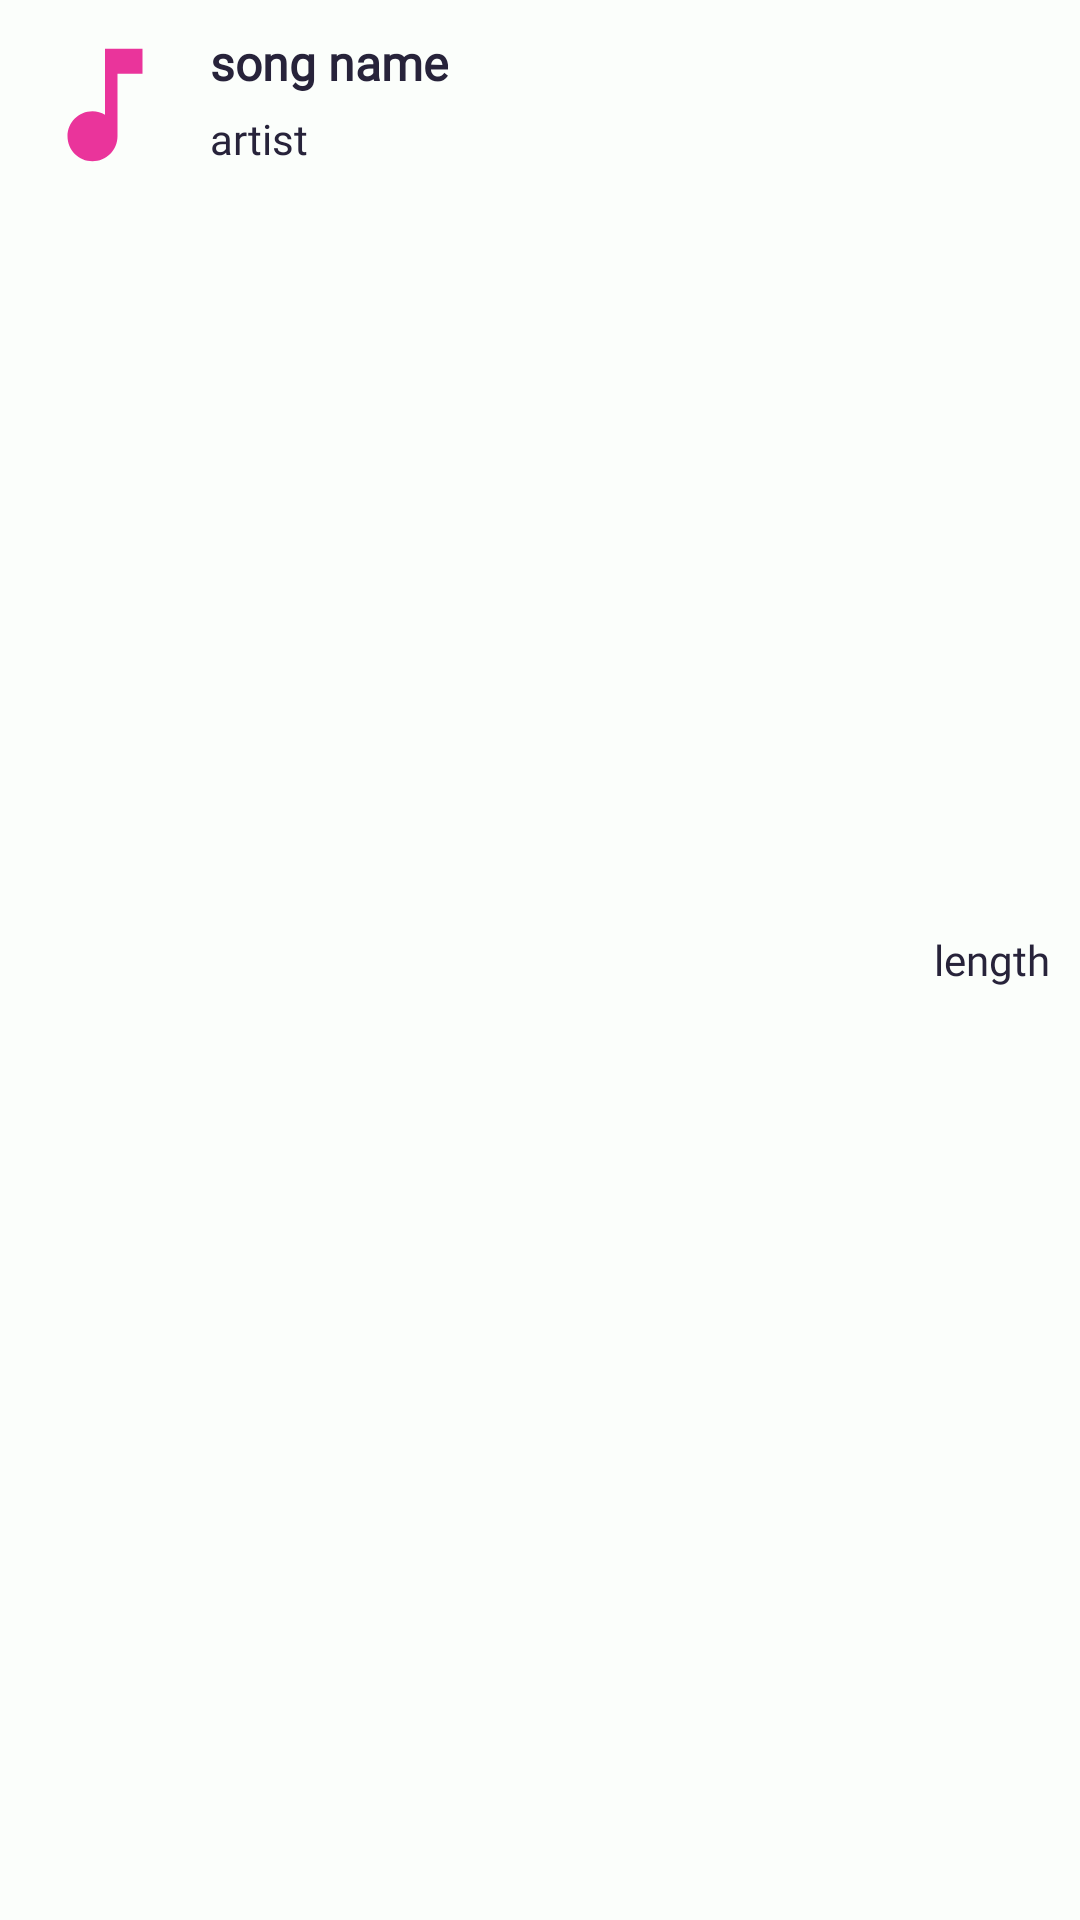

Screen size 1080w x 1920h. Icon name, then its box in pixels as (x1, y1, x2, y2):
music note: (67, 48, 143, 162)
